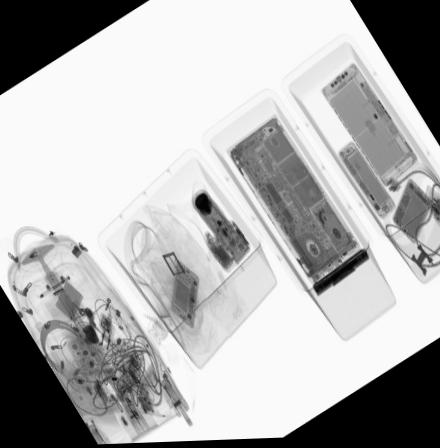Lighter: (103, 313, 112, 338)
